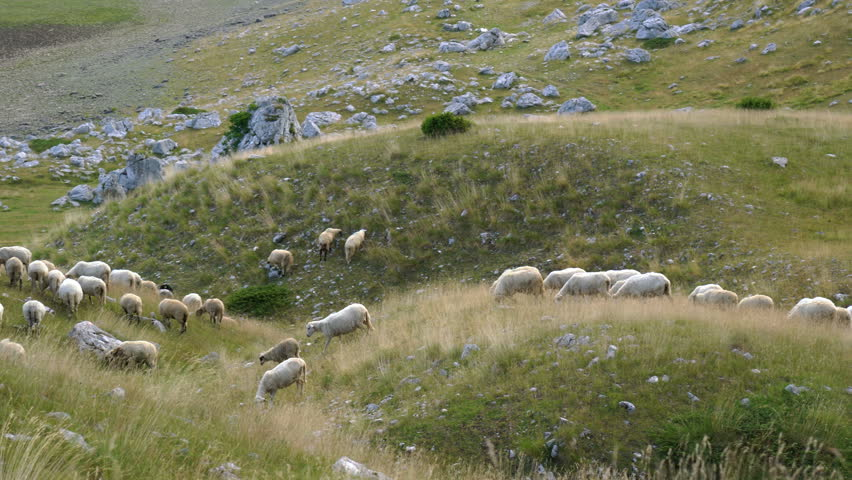sheep: (305, 301, 378, 349), (253, 354, 309, 413), (491, 267, 546, 307), (553, 271, 612, 306), (55, 278, 84, 316), (22, 299, 49, 337), (194, 296, 225, 329)
